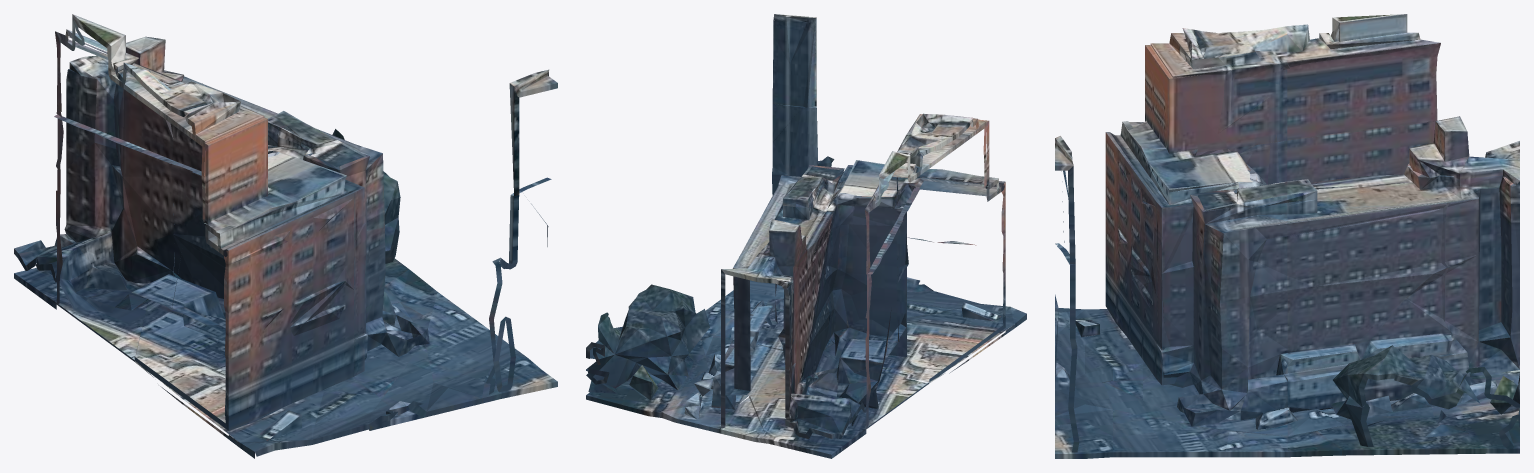
File: chunk_5_7.glb
The picture shows the model from 3 angles, left to right: view 1: azimuth 30°, elevation 25°; view 2: azimuth 150°, elevation 25°; view 3: azimuth 270°, elevation 25°; orthographic projection. The views are drawn at different scales.
Visible parts, largest first — view 1: hero-chunk; view 2: hero-chunk; view 3: hero-chunk.
Part boxes in pixels (x1=…): hero-chunk: x1=14, y1=14, x2=557, y2=458; hero-chunk: x1=586, y1=14, x2=1026, y2=458; hero-chunk: x1=1055, y1=14, x2=1519, y2=458.
Bounding box in the file's own units: 56.66 × 54.75 × 76.33.
Materials: 2 (2 with a texture image).
